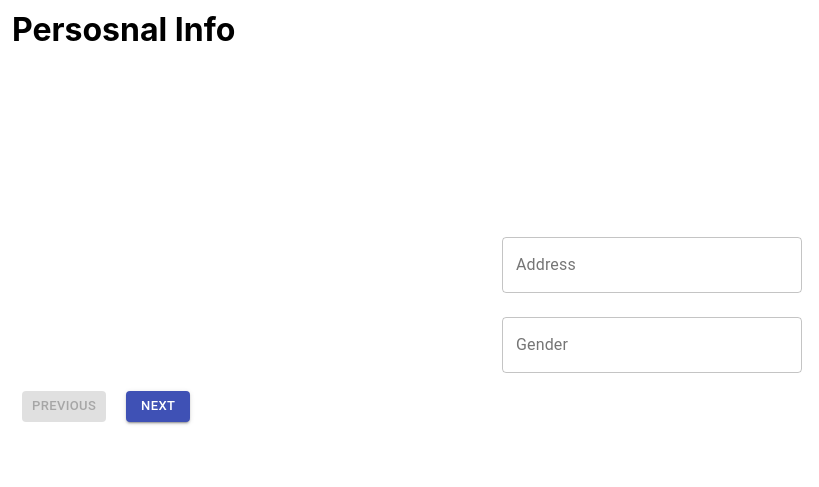
Test case: Testing for errors › Should display error messages if both input fields are empty
The width and height of the screenshot is (819, 487).
Click the button with test id "next-button" at point(158, 406), box [126,391,190,422]
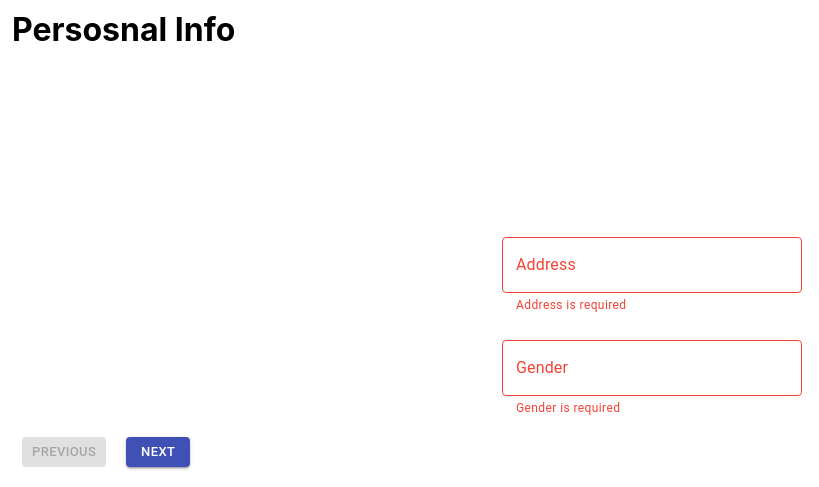
Now the text "Address is required" is shown, box [516,298,626,312]
Now the text "Gender is required" is shown, box [516,401,620,415]
